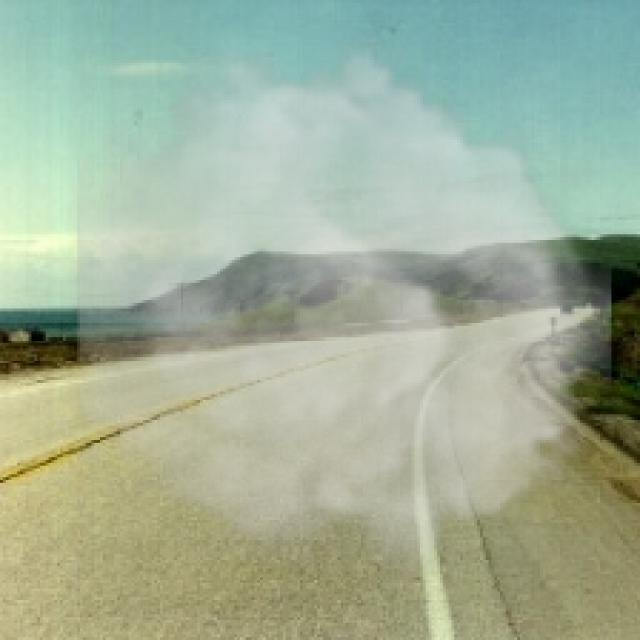smoke: (77, 28, 612, 583)
